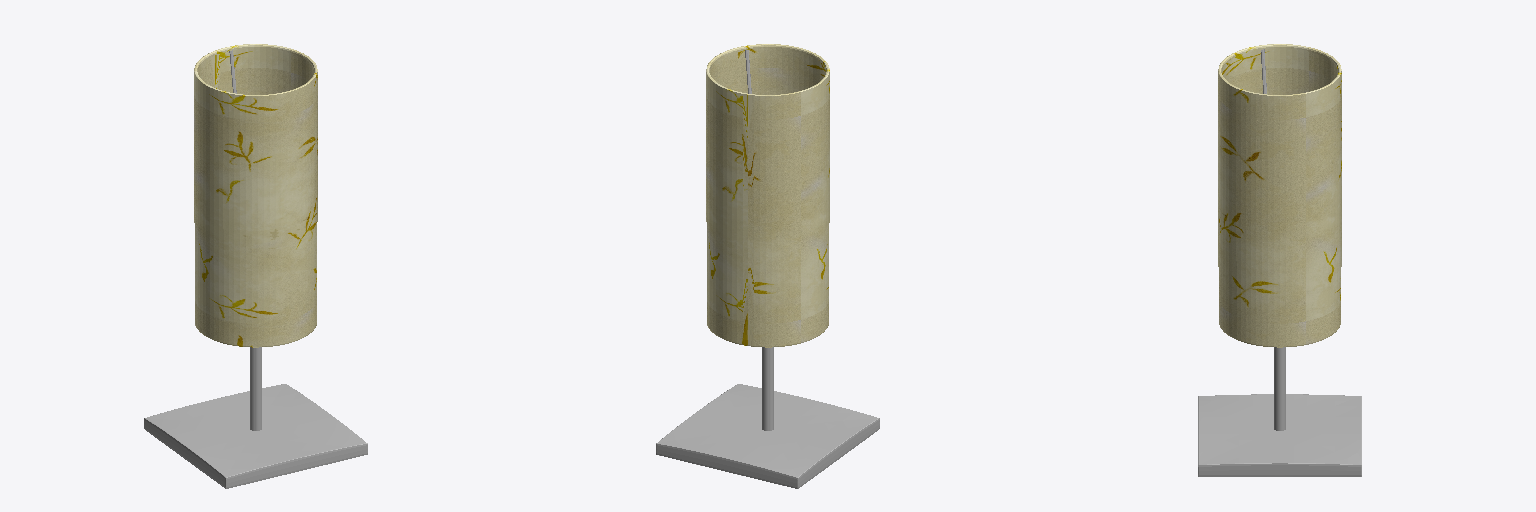
3 renders of one model, left to right at view 1: azimuth 30°, elevation 25°; view 2: azimuth 150°, elevation 25°; view 3: azimuth 270°, elevation 25°, orthographic.
Visible parts, largest first — view 1: lamp2_Circle, baselamp2_Cube; view 2: lamp2_Circle, baselamp2_Cube; view 3: lamp2_Circle, baselamp2_Cube.
Boxes of the visible parts, x1,y1,x2,y2 form: lamp2_Circle: [194, 44, 317, 347]; baselamp2_Cube: [144, 347, 367, 488]; lamp2_Circle: [706, 44, 829, 347]; baselamp2_Cube: [656, 347, 879, 488]; lamp2_Circle: [1218, 44, 1341, 347]; baselamp2_Cube: [1198, 347, 1361, 476].
Bounding box in the file's own units: 2 × 5.01 × 2.
5 materials, 1 textured.